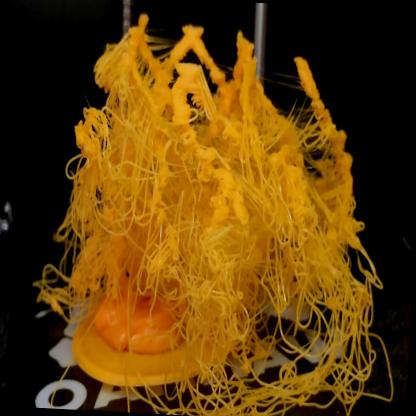fail: (26, 6, 414, 416)
